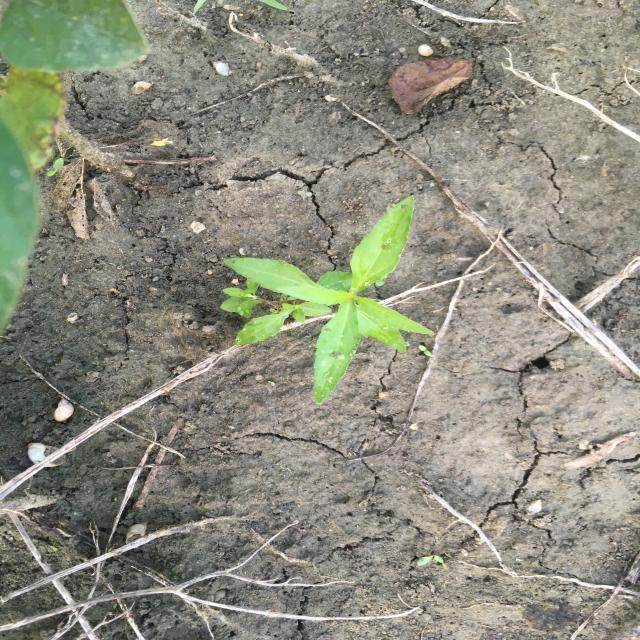Eclipta: (218, 194, 438, 407)
